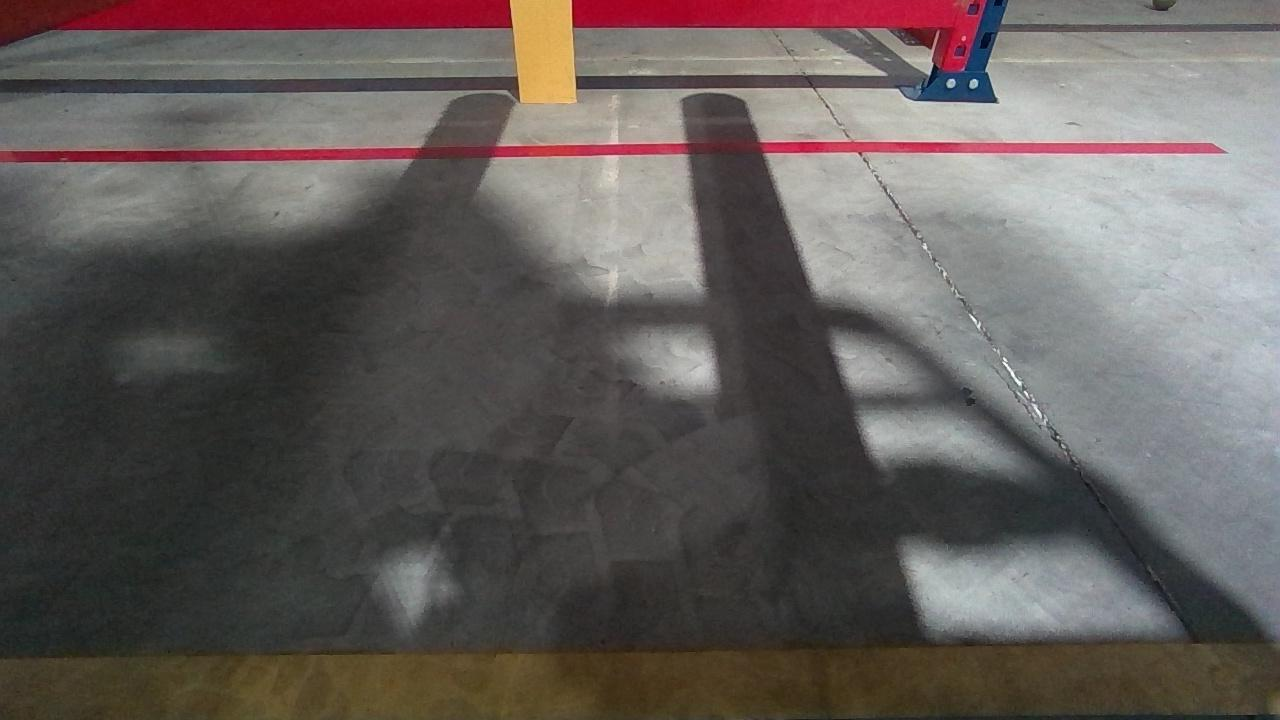h_rack: (4, 0, 968, 31)
orange_strip: (507, 0, 576, 102)
red_line: (1, 138, 1224, 166)
yellow_line: (0, 639, 1280, 720)
